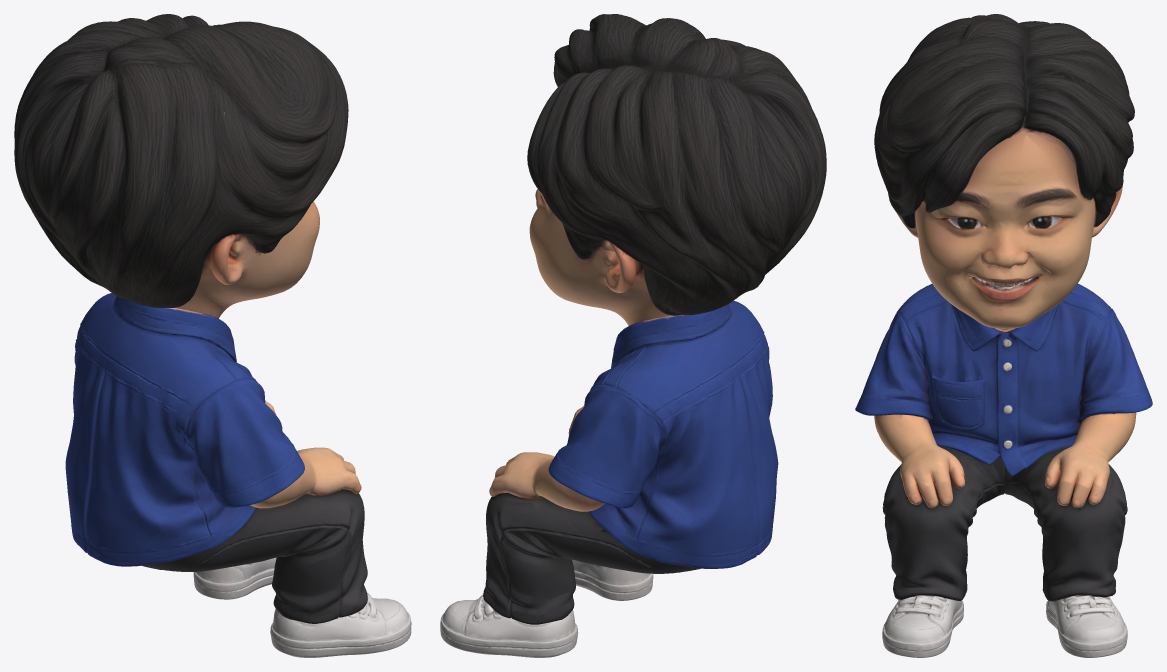
The model's file is 江雨童.glb.
3 renders of one model, left to right at view 1: azimuth 30°, elevation 25°; view 2: azimuth 150°, elevation 25°; view 3: azimuth 270°, elevation 25°, orthographic. The views are drawn at different scales.
Parts seen in each view (by area): view 1: tripo_node_d81c528e-8712-4ce2-b114-a6c669856334; view 2: tripo_node_d81c528e-8712-4ce2-b114-a6c669856334; view 3: tripo_node_d81c528e-8712-4ce2-b114-a6c669856334.
Boxes of the visible parts, <box> form: tripo_node_d81c528e-8712-4ce2-b114-a6c669856334: <box>14,14,411,657</box>; tripo_node_d81c528e-8712-4ce2-b114-a6c669856334: <box>440,14,826,657</box>; tripo_node_d81c528e-8712-4ce2-b114-a6c669856334: <box>855,14,1152,657</box>.
Bounding box in the file's own units: 0.5385 × 0.9805 × 0.4814.
1 material, 1 textured.
